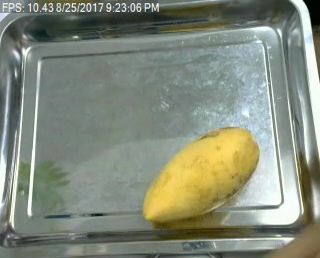Mango: (137, 123, 259, 226)
